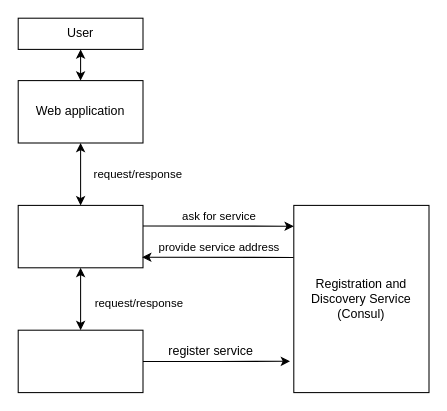
Some shapes in this 447 by 411 pixel diagram are drawn without their labels. The shapes that lost their labels are listed below. From the top down, each one's centre as x and y in pixels, then its label:
At (80,236): "Api Gateway (Zuul)".
At (80,361): "Microservice (Spring Boot)".
